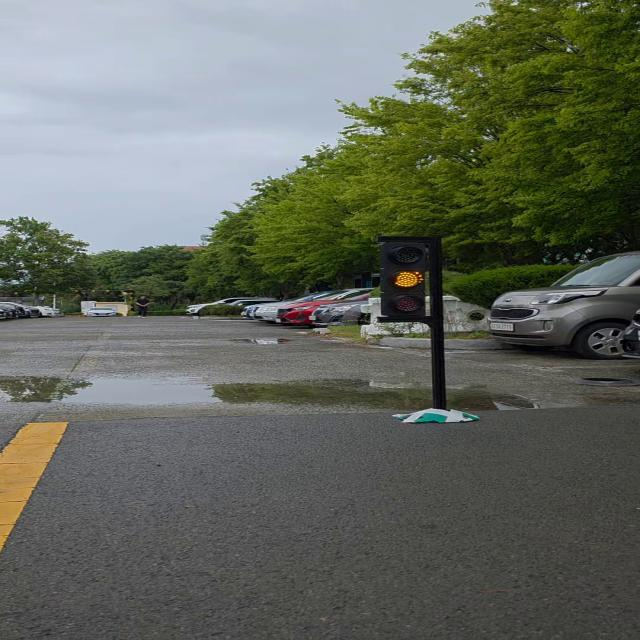yellow: (375, 232, 447, 323)
